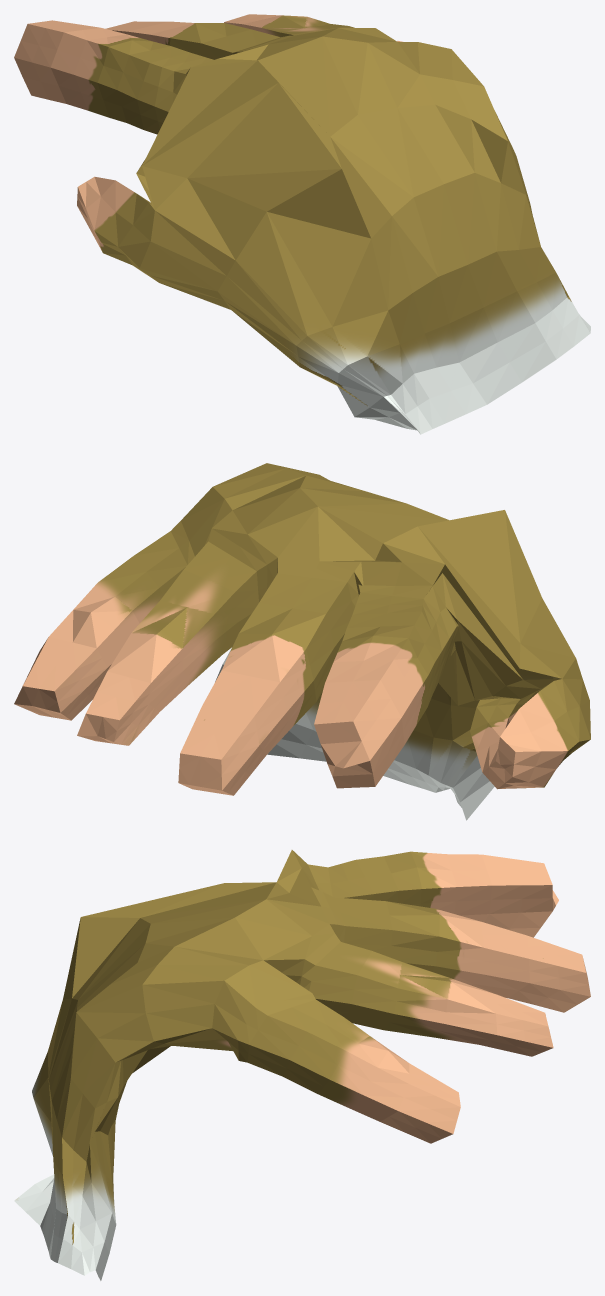
The model's file is flexion0044.obj.
The picture shows the model from 3 angles, top to bottom: view 1: azimuth 30°, elevation 25°; view 2: azimuth 150°, elevation 25°; view 3: azimuth 270°, elevation 25°; orthographic projection. The views are drawn at different scales.
Visible parts, largest first — view 1: Hand; view 2: Hand; view 3: Hand.
Boxes of the visible parts, x1,y1,x2,y2 form: Hand: [14, 14, 590, 434]; Hand: [14, 463, 590, 820]; Hand: [14, 850, 590, 1280].
Bounding box in the file's own units: 3.27 × 2.46 × 3.88.
